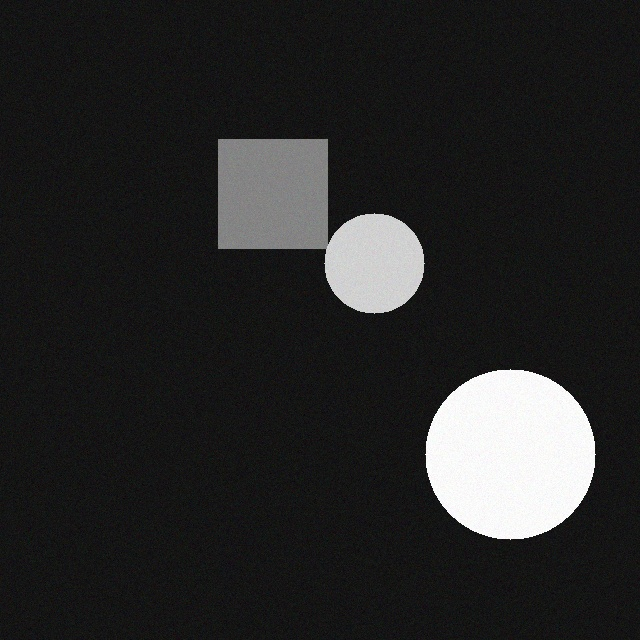circle: (418, 363, 588, 533), (317, 207, 417, 307)
square: (211, 133, 320, 242)
